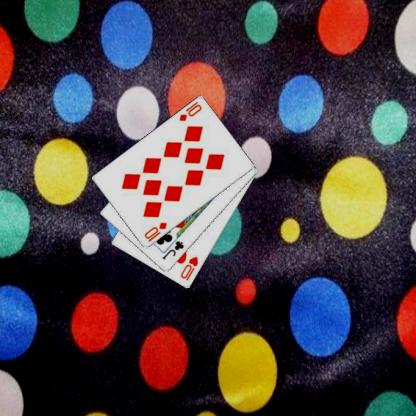10D: (142, 219, 168, 244), (176, 98, 203, 122)
10H: (178, 254, 200, 282)
JC: (160, 238, 186, 261)
